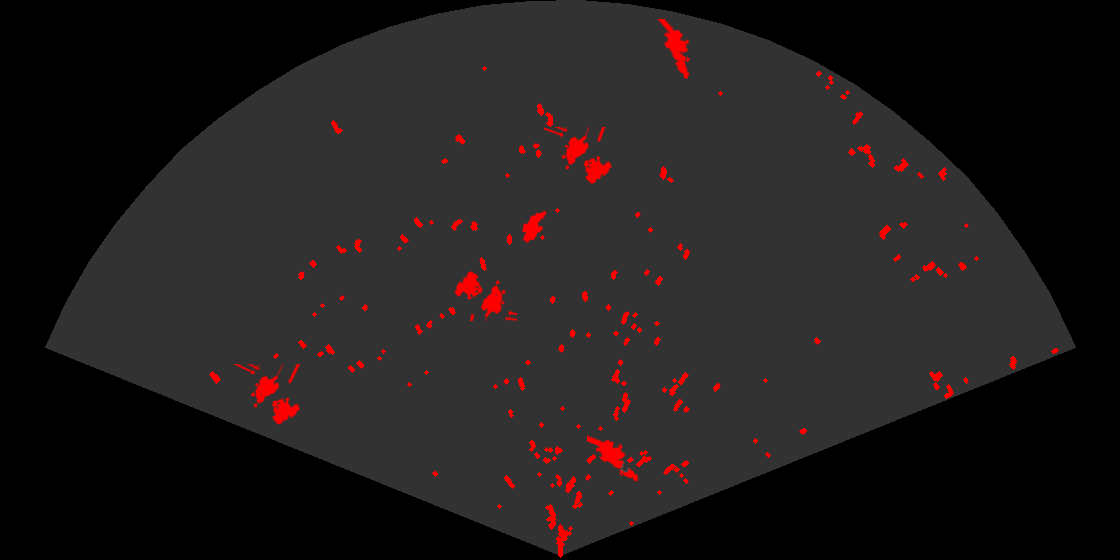AUV: (520, 209, 548, 244)
cage: (233, 364, 302, 426), (544, 127, 614, 185), (452, 269, 517, 321)
frogman: (587, 434, 641, 483), (656, 19, 691, 81)
